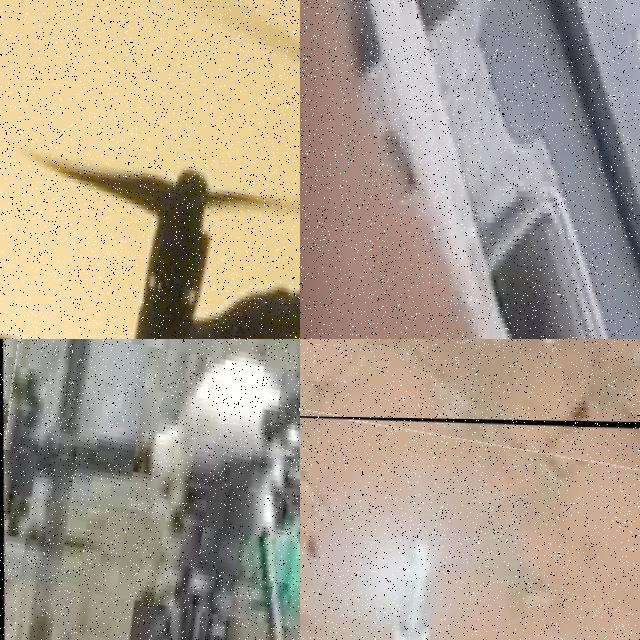0: (0, 339, 300, 640)
drone: (0, 0, 300, 339), (300, 413, 640, 640)
